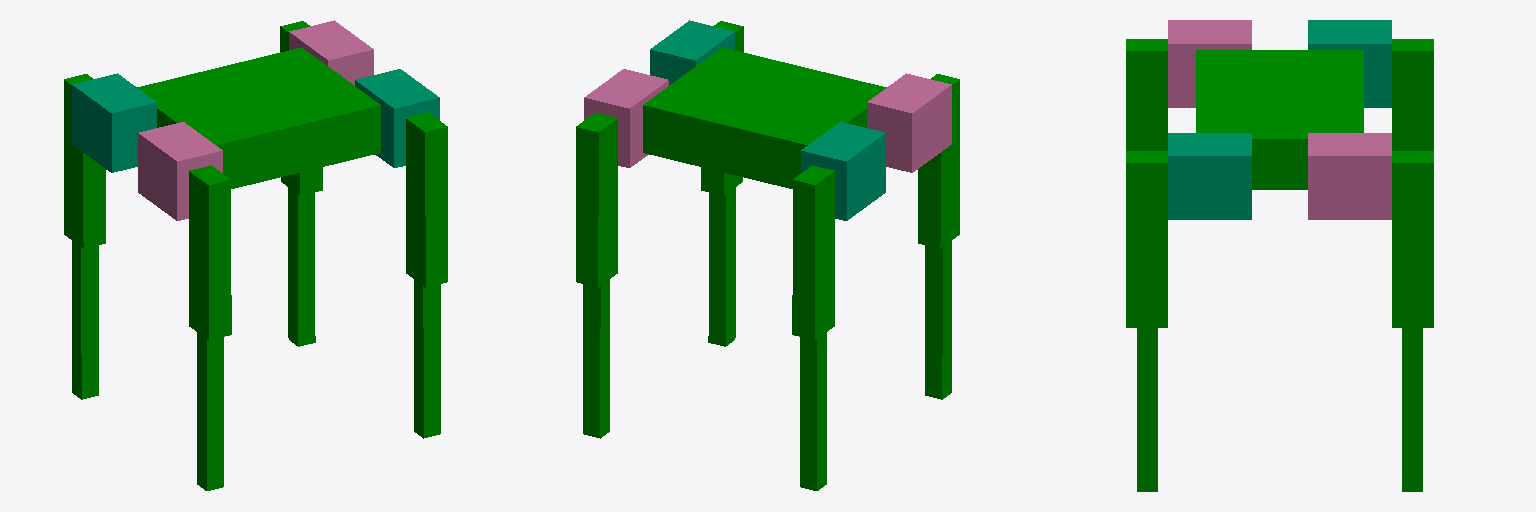
The robot description file, URDF, robot "my_robot":
<?xml version="1.0"?>

<robot name="my_robot">

    <material name="green">
        <color rgba="0 0.6 0 1" />
    </material>

    <!-- DUMMY LINK -->
    <link name="world_link">
    </link>

    <link name="base_link">
        <visual>
            <geometry>
               <box size="0.15 0.12 0.04" />
            </geometry>
            
            <material name="green"/>
        </visual>

        <collision>
            <geometry>
               <box size="0.15 0.12 0.04" />
            </geometry>
            <origin xyz="0 0 0" rpy="0 0 0" />
        </collision>

        <!-- Inertia calculated based on perfect rectangle -->
        <inertial>
        <origin xyz="0 0 0" rpy="0 0 0"/>
        
        <mass value="0.5"/>
        
        <inertia ixx="0.0003333" ixy="0.0"       ixz="0.0" 
                                iyy="0.0004979" iyz="0.0" 
                                                izz="0.0007688"/>
    </inertial>
    </link>

    <joint name="base_joint" type="fixed">
        <parent link="world_link" />
        <child link="base_link" />
        <origin xyz="0 0 0.1" rpy="0 0 0" />
    </joint>

    <!-- FRONT RIGHT LEG -->

    <link name="front_right_hip">
        <visual>
            <geometry>
                <box size="0.04 0.06 0.05"/>
            </geometry>
            <origin xyz="0 0 0" rpy="0 0 0" />
            <material name="gray" />
        </visual>

        <collision>
            <geometry>
                <box size="0.04 0.06 0.05"/>
            </geometry>
            <origin xyz="0 0 0" rpy="0 0 0" />
        </collision>

        <inertial>
            <origin xyz="-0.00398 0.00085 -0.00004" rpy="0 0 0"/>
            <mass value="0.02721"/>
            <inertia ixx="0.00001383" ixy="0.0" ixz="0.0" 
                                      iyy="0.00000930" iyz="0.0" 
                                                      izz="0.00001179"/>
        </inertial>
    </link>

    <link name="front_right_thigh">
        <visual>
            <geometry>
               <box size="0.13 0.03 0.02" />
            </geometry>
            <origin xyz="0.05 0 0" rpy="0 0 0" />
            <material name="green"/>
        </visual>

        <collision>
            <geometry>
                <box size="0.13 0.03 0.02" />
            </geometry>
            <origin xyz="0.05 0 0" rpy="0 0 0" />
        </collision>

        <inertial>
            <origin xyz="0.05 0.0 0.0" rpy="0 0 0"/>
            <mass value="0.0578"/>
            <inertia ixx="0.00000626" ixy="0.0" ixz="0.0" 
                                      iyy="0.0000833" iyz="0.0" 
                                                      izz="0.0000854"/>
        </inertial>
    </link>

    <joint name="front_right_hip_joint" type="revolute">
        <parent link="base_link" />
        <child link="front_right_hip" />
        <origin xyz="0.095 -0.05 0" rpy="0 0 0" />
        <axis xyz="-1 0  0"/>
        <limit lower="-1.4" upper="1.05" velocity="7.48" effort="2.55"/>
    </joint>

    <joint name="front_right_thigh_joint" type="revolute">
        <parent link="front_right_hip" />
        <child link="front_right_thigh" />
        <origin xyz="0 -0.045 0" rpy="0 1.57 0" />
        <axis xyz="0 -1  0"/>
        <limit lower="-1.57" upper="1.57" velocity="7.48" effort="2.55"/>
    </joint>

    <link name="front_right_knee">
        <visual>
            <geometry>
               <box size="0.13 0.015 0.015" />
            </geometry>
            <origin xyz="0.05 0 0" rpy="0 0 0" />
            <material name="green"/>
        </visual>

        <collision>
            <geometry>
                <box size="0.13 0.015 0.015" />
            </geometry>
            <origin xyz="0.05 0 0" rpy="0 0 0" />
        </collision>

        <inertial>
            <origin xyz="0.05 0.0 0.0" rpy="0 0 0"/>
            <mass value="0.03019"/>
            <inertia ixx="0.00000113" ixy="0.0" ixz="0.0" 
                                      iyy="0.00004308" iyz="0.0" 
                                                      izz="0.00004308"/>
        </inertial>
    </link>

    <joint name="front_right_knee_joint" type="revolute">
        <parent link="front_right_thigh" />
        <child link="front_right_knee" />
        <origin xyz="0.13 0 0" rpy="0 0 0" />
        <axis xyz="0 -1  0"/>
        <limit lower="0" upper="2.61799" velocity="7.48" effort="2.55"/>
    </joint>

    <link name="front_right_feet">
    </link>

    <joint name="front_right_feet_joint" type="fixed">
        <parent link="front_right_knee" />
        <child link="front_right_feet" />
        <origin xyz="0.13 0 0" rpy="0 -1.57 0" />
    </joint>
    <gazebo reference="front_right_feet"> <mu1>1.5</mu1> <mu2>1.5</mu2> </gazebo>
    <!-- BACK RIGHT LEG -->


    <link name="back_right_hip">
        <visual>
            <geometry>
                <box size="0.04 0.06 0.05"/>
            </geometry>
            <origin xyz="0 0 0" rpy="0 0 0" />
            <material name="gray" />
        </visual>

        <collision>
            <geometry>
                <box size="0.04 0.06 0.05"/>
            </geometry>
            <origin xyz="0 0 0" rpy="0 0 0" />
        </collision>

        <inertial>
            <origin xyz="-0.00398 0.00085 -0.00004" rpy="0 0 0"/>
            <mass value="0.02721"/>
            <inertia ixx="0.00001383" ixy="0.0" ixz="0.0" 
                                      iyy="0.00000930" iyz="0.0" 
                                                      izz="0.00001179"/>
        </inertial>
    </link>

    <link name="back_right_thigh">
        <visual>
            <geometry>
               <box size="0.13 0.03 0.02" />
            </geometry>
            <origin xyz="0.05 0 0" rpy="0 0 0" />
            <material name="green"/>
        </visual>

        <collision>
            <geometry>
                <box size="0.13 0.03 0.02" />
            </geometry>
            <origin xyz="0.05 0 0" rpy="0 0 0" />
        </collision>

        <inertial>
            <origin xyz="0.05 0.0 0.0" rpy="0 0 0"/>
            <mass value="0.0578"/>
            <inertia ixx="0.00000626" ixy="0.0" ixz="0.0" 
                                      iyy="0.0000833" iyz="0.0" 
                                                      izz="0.0000854"/>
        </inertial>
    </link>

    <joint name="back_right_hip_joint" type="revolute">
        <parent link="base_link" />
        <child link="back_right_hip" />
        <origin xyz="-0.095 -0.05 0" rpy="0 0 0" />
        <axis xyz="-1 0  0"/>
        <limit lower="-1.4" upper="1.05" velocity="7.48" effort="2.55"/>
    </joint>

    <joint name="back_right_thigh_joint" type="revolute">
        <parent link="back_right_hip" />
        <child link="back_right_thigh" />
        <origin xyz="0 -0.045 0" rpy="0 1.57 0" />
        <axis xyz="0 -1  0"/>
        <limit lower="-1.57" upper="1.57" velocity="7.48" effort="2.55"/>
    </joint>

    <link name="back_right_knee">
        <visual>
            <geometry>
               <box size="0.13 0.015 0.015" />
            </geometry>
            <origin xyz="0.05 0 0" rpy="0 0 0" />
            <material name="green"/>
        </visual>

        <collision>
            <geometry>
                <box size="0.13 0.015 0.015" />
            </geometry>
            <origin xyz="0.05 0 0" rpy="0 0 0" />
        </collision>

        <inertial>
            <origin xyz="0.05 0.0 0.0" rpy="0 0 0"/>
            <mass value="0.03019"/>
            <inertia ixx="0.00000113" ixy="0.0" ixz="0.0" 
                                      iyy="0.00004308" iyz="0.0" 
                                                      izz="0.00004308"/>
        </inertial>
    </link>

    <joint name="back_right_knee_joint" type="revolute">
        <parent link="back_right_thigh" />
        <child link="back_right_knee" />
        <origin xyz="0.13 0 0" rpy="0 0 0" />
        <axis xyz="0 -1  0"/>
        <limit lower="0" upper="2.61799" velocity="7.48" effort="2.55"/>
    </joint>

    <link name="back_right_feet">
    </link>

    <joint name="back_right_feet_joint" type="fixed">
        <parent link="back_right_knee" />
        <child link="back_right_feet" />
        <origin xyz="0.13 0 0" rpy="0 -1.57 0" />
    </joint>
    <gazebo reference="back_right_feet"> <mu1>1.5</mu1> <mu2>1.5</mu2> </gazebo>
    <!-- BACK LEFT LEG -->

    <link name="back_left_hip">
        <visual>
            <geometry>
                <box size="0.04 0.06 0.05"/>
            </geometry>
            <origin xyz="0 0 0" rpy="0 0 0" />
            <material name="gray" />
        </visual>

        <collision>
            <geometry>
                <box size="0.04 0.06 0.05"/>
            </geometry>
            <origin xyz="0 0 0" rpy="0 0 0" />
        </collision>

        <inertial>
            <origin xyz="-0.00398 0.00085 -0.00004" rpy="0 0 0"/>
            <mass value="0.02721"/>
            <inertia ixx="0.00001383" ixy="0.0" ixz="0.0" 
                                      iyy="0.00000930" iyz="0.0" 
                                                      izz="0.00001179"/>
        </inertial>
    </link>

    <link name="back_left_thigh">
        <visual>
            <geometry>
               <box size="0.13 0.03 0.02" />
            </geometry>
            <origin xyz="0.05 0 0" rpy="0 0 0" />
            <material name="green"/>
        </visual>

        <collision>
            <geometry>
                <box size="0.13 0.03 0.02" />
            </geometry>
            <origin xyz="0.05 0 0" rpy="0 0 0" />
        </collision>

        <inertial>
            <origin xyz="0.05 0.0 0.0" rpy="0 0 0"/>
            <mass value="0.0578"/>
            <inertia ixx="0.00000626" ixy="0.0" ixz="0.0" 
                                      iyy="0.0000833" iyz="0.0" 
                                                      izz="0.0000854"/>
        </inertial>
    </link>

    <joint name="back_left_hip_joint" type="revolute">
        <parent link="base_link" />
        <child link="back_left_hip" />
        <origin xyz="-0.095 0.05 0" rpy="0 0 0" />
        <axis xyz="-1 0  0"/>
        <limit lower="-1.4" upper="1.05" velocity="7.48" effort="2.55"/>
    </joint>

    <joint name="back_left_thigh_joint" type="revolute">
        <parent link="back_left_hip" />
        <child link="back_left_thigh" />
        <origin xyz="0 0.045 0" rpy="0 1.57 0" />
        <axis xyz="0 -1  0"/>
        <limit lower="-1.57" upper="1.57" velocity="7.48" effort="2.55"/>
    </joint>

    <link name="back_left_knee">
        <visual>
            <geometry>
               <box size="0.13 0.015 0.015" />
            </geometry>
            <origin xyz="0.05 0 0" rpy="0 0 0" />
            <material name="green"/>
        </visual>

        <collision>
            <geometry>
                <box size="0.13 0.015 0.015" />
            </geometry>
            <origin xyz="0.05 0 0" rpy="0 0 0" />
        </collision>

        <inertial>
            <origin xyz="0.05 0.0 0.0" rpy="0 0 0"/>
            <mass value="0.03019"/>
            <inertia ixx="0.00000113" ixy="0.0" ixz="0.0" 
                                      iyy="0.00004308" iyz="0.0" 
                                                      izz="0.00004308"/>
        </inertial>
    </link>

    <joint name="back_left_knee_joint" type="revolute">
        <parent link="back_left_thigh" />
        <child link="back_left_knee" />
        <origin xyz="0.13 0 0" rpy="0 0 0" />
        <axis xyz="0 -1  0"/>
        <limit lower="0" upper="2.61799" velocity="7.48" effort="2.55"/>
    </joint>

    <link name="back_left_feet">
    </link>

    <joint name="back_left_feet_joint" type="fixed">
        <parent link="back_left_knee" />
        <child link="back_left_feet" />
        <origin xyz="0.13 0 0" rpy="0 -1.57 0" />
    </joint>

    <gazebo reference="back_left_feet"> <mu1>1.5</mu1> <mu2>1.5</mu2> </gazebo>
    <!-- FRONT LEFT LEG -->


    <link name="front_left_hip">
        <visual>
            <geometry>
                <box size="0.04 0.06 0.05"/>
            </geometry>
            <origin xyz="0 0 0" rpy="0 0 0" />
            <material name="gray" />
        </visual>

        <collision>
            <geometry>
                <box size="0.04 0.06 0.05"/>
            </geometry>
            <origin xyz="0 0 0" rpy="0 0 0" />
        </collision>

        <inertial>
            <origin xyz="-0.00398 0.00085 -0.00004" rpy="0 0 0"/>
            <mass value="0.02721"/>
            <inertia ixx="0.00001383" ixy="0.0" ixz="0.0" 
                                      iyy="0.00000930" iyz="0.0" 
                                                      izz="0.00001179"/>
        </inertial>
    </link>

    <link name="front_left_thigh">
        <visual>
            <geometry>
               <box size="0.13 0.03 0.02" />
            </geometry>
            <origin xyz="0.05 0 0" rpy="0 0 0" />
            <material name="green"/>
        </visual>

        <collision>
            <geometry>
                <box size="0.13 0.03 0.02" />
            </geometry>
            <origin xyz="0.05 0 0" rpy="0 0 0" />
        </collision>

        <inertial>
            <origin xyz="0.05 0.0 0.0" rpy="0 0 0"/>
            <mass value="0.0578"/>
            <inertia ixx="0.00000626" ixy="0.0" ixz="0.0" 
                                      iyy="0.0000833" iyz="0.0" 
                                                      izz="0.0000854"/>
        </inertial>
    </link>

    <joint name="front_left_hip_joint" type="revolute">
        <parent link="base_link" />
        <child link="front_left_hip" />
        <origin xyz="0.095 0.05 0" rpy="0 0 0" />
        <axis xyz="-1 0  0"/>
        <limit lower="-1.4" upper="1.05" velocity="7.48" effort="2.55"/>
    </joint>

    <joint name="front_left_thigh_joint" type="revolute">
        <parent link="front_left_hip" />
        <child link="front_left_thigh" />
        <origin xyz="0 0.045 0" rpy="0 1.57 0" />
        <axis xyz="0 -1  0"/>
        <limit lower="-1.57" upper="1.57" velocity="7.48" effort="2.55"/>
    </joint>

    <link name="front_left_knee">
        <visual>
            <geometry>
               <box size="0.13 0.015 0.015" />
            </geometry>
            <origin xyz="0.05 0 0" rpy="0 0 0" />
            <material name="green"/>
        </visual>

        <collision>
            <geometry>
                <box size="0.13 0.015 0.015" />
            </geometry>
            <origin xyz="0.05 0 0" rpy="0 0 0" />
        </collision>

        <inertial>
            <origin xyz="0.05 0.0 0.0" rpy="0 0 0"/>
            <mass value="0.03019"/>
            <inertia ixx="0.00000113" ixy="0.0" ixz="0.0" 
                                      iyy="0.00004308" iyz="0.0" 
                                                      izz="0.00004308"/>
        </inertial>
    </link>

    <joint name="front_left_knee_joint" type="revolute">
        <parent link="front_left_thigh" />
        <child link="front_left_knee" />
        <origin xyz="0.13 0 0" rpy="0 0 0" />
        <axis xyz="0 -1  0"/>
        <limit lower="0" upper="2.61799" velocity="7.48" effort="2.55"/>
    </joint>

    <link name="front_left_feet">
    </link>

    <joint name="front_left_feet_joint" type="fixed">
        <parent link="front_left_knee" />
        <child link="front_left_feet" />
        <origin xyz="0.13 0 0" rpy="0 -1.57 0" />
    </joint>

    <gazebo reference="front_left_feet"> <mu1>1.5</mu1> <mu2>1.5</mu2> </gazebo>


    <ros2_control name="MicroSpotHardwareInterface" type="system">
        <hardware>
            <plugin>gz_ros2_control/GazeboSimSystem</plugin>
        </hardware>
        
        <joint name="front_right_hip_joint">
            <command_interface name="position">
                <param name="min">-1.4</param>
                <param name="max">1.05</param>
            </command_interface>
            <state_interface name="position"/>
            <state_interface name="velocity"/>
        </joint>

        <joint name="front_right_thigh_joint">
            <command_interface name="position">
                <param name="min">-1.57</param>
                <param name="max">1.57</param>
            </command_interface>
            <state_interface name="position"/>
            <state_interface name="velocity"/>
        </joint>

        <joint name="front_right_knee_joint">
            <command_interface name="position">
                <param name="min">0</param>
                <param name="max">2.62</param>
            </command_interface>
            <state_interface name="position"/>
            <state_interface name="velocity"/>
        </joint>

        <joint name="back_right_hip_joint">
            <command_interface name="position">
                <param name="min">-1.4</param>
                <param name="max">1.05</param>
            </command_interface>
            <state_interface name="position"/>
            <state_interface name="velocity"/>
        </joint>

        <joint name="back_right_thigh_joint">
            <command_interface name="position">
                <param name="min">-1.57</param>
                <param name="max">1.57</param>
            </command_interface>
            <state_interface name="position"/>
            <state_interface name="velocity"/>
        </joint>

        <joint name="back_right_knee_joint">
            <command_interface name="position">
                <param name="min">0</param>
                <param name="max">2.62</param>
            </command_interface>
            <state_interface name="position"/>
            <state_interface name="velocity"/>
        </joint>

        <joint name="back_left_hip_joint">
            <command_interface name="position">
                <param name="min">-1.4</param>
                <param name="max">1.05</param>
            </command_interface>
            <state_interface name="position"/>
            <state_interface name="velocity"/>
        </joint>

        <joint name="back_left_thigh_joint">
            <command_interface name="position">
                <param name="min">-1.57</param>
                <param name="max">1.57</param>
            </command_interface>
            <state_interface name="position"/>
            <state_interface name="velocity"/>
        </joint>

        <joint name="back_left_knee_joint">
            <command_interface name="position">
                <param name="min">0</param>
                <param name="max">2.62</param>
            </command_interface>
            <state_interface name="position"/>
            <state_interface name="velocity"/>
        </joint>
        
        <joint name="front_left_hip_joint">
            <command_interface name="position">
                <param name="min">-1.04</param>
                <param name="max">1.05</param>
            </command_interface>
            <state_interface name="position"/>
            <state_interface name="velocity"/>
        </joint>

        <joint name="front_left_thigh_joint">
            <command_interface name="position">
                <param name="min">-1.57</param>
                <param name="max">1.57</param>
            </command_interface>
            <state_interface name="position"/>
            <state_interface name="velocity"/>
        </joint>

        <joint name="front_left_knee_joint">
            <command_interface name="position">
                <param name="min">0</param>
                <param name="max">2.62</param>
            </command_interface>
            <state_interface name="position"/>
            <state_interface name="velocity"/>
        </joint>
    </ros2_control>

    <gazebo>
        <plugin filename="gz_ros2_control-system" name="gz_ros2_control::GazeboSimROS2ControlPlugin">
                <parameters>MICROSPOT_YAML_PATH_PLACEHOLDER</parameters>            
            <controller_manager_name>controller_manager</controller_manager_name>
        </plugin>
    </gazebo>

    <gazebo reference="base_link">
        <sensor name="imu_sensor" type="imu">
            <always_on>true</always_on>
            <update_rate>50.0</update_rate> <visualize>true</visualize>
            <topic>imu/data</topic>
            <plugin name="gazebo_ros_imu_sensor" filename="libgazebo_ros_imu_sensor.so">
                <ros>
                    <remapping>~/out:=/imu/data</remapping>
                </ros>
                <frame_name>base_link</frame_name>
            </plugin>
        </sensor>
    </gazebo>
</robot>

--- Render facts (derived) ---
3 views of the same robot in one strip: view 1: azimuth 30°, elevation 25°; view 2: azimuth 150°, elevation 25°; view 3: azimuth 270°, elevation 25° (orthographic).
Model my_robot with 18 links and 17 joints (12 revolute, 5 fixed), rooted at world_link, posed all joints at 0.
Links seen in each view (by area): view 1: base_link, back_right_thigh, front_right_thigh, back_left_hip, back_right_hip, back_left_thigh, front_left_knee, back_right_knee, front_right_knee, back_left_knee, front_right_hip, front_left_hip (+1 smaller); view 2: base_link, back_left_thigh, front_left_thigh, back_right_hip, back_left_hip, back_right_thigh, front_right_knee, back_left_knee, back_right_knee, front_left_knee, front_left_hip, front_right_hip (+1 smaller); view 3: base_link, front_right_thigh, front_left_thigh, front_right_hip, front_left_hip, back_right_thigh, back_left_thigh, back_right_hip, back_left_hip, front_right_knee, front_left_knee.
Boxes of the visible links, box(x1,y1,x2,y2) form: base_link: box(137, 47, 380, 188); back_right_thigh: box(189, 165, 231, 339); front_right_thigh: box(406, 112, 447, 287); back_left_hip: box(72, 73, 156, 172); back_right_hip: box(138, 122, 222, 220); back_left_thigh: box(64, 74, 105, 248); front_left_knee: box(288, 187, 315, 346); back_right_knee: box(197, 332, 223, 490); front_right_knee: box(414, 280, 440, 438); back_left_knee: box(72, 241, 98, 399); front_right_hip: box(355, 69, 439, 167); front_left_hip: box(289, 20, 373, 85); base_link: box(643, 47, 886, 188); back_left_thigh: box(792, 165, 834, 339); front_left_thigh: box(576, 112, 617, 287); back_right_hip: box(867, 73, 951, 172); back_left_hip: box(801, 122, 885, 220); back_right_thigh: box(918, 74, 959, 248); front_right_knee: box(708, 187, 735, 346); back_left_knee: box(800, 332, 826, 490); back_right_knee: box(925, 241, 951, 399); front_left_knee: box(583, 280, 609, 438); front_left_hip: box(584, 69, 668, 167); front_right_hip: box(650, 20, 734, 85); base_link: box(1196, 50, 1363, 189); front_right_thigh: box(1126, 151, 1167, 327); front_left_thigh: box(1392, 151, 1433, 327); front_right_hip: box(1168, 133, 1251, 219); front_left_hip: box(1308, 133, 1391, 219); back_right_thigh: box(1126, 39, 1167, 150); back_left_thigh: box(1392, 39, 1433, 150); back_right_hip: box(1168, 20, 1251, 107); back_left_hip: box(1308, 20, 1391, 107); front_right_knee: box(1137, 328, 1157, 491); front_left_knee: box(1402, 328, 1422, 491).
Bounding box of the posed robot: 0.23 × 0.22 × 0.27 m (x, y, z).
Geometry: primitives only (box / cylinder / sphere), no mesh files.
